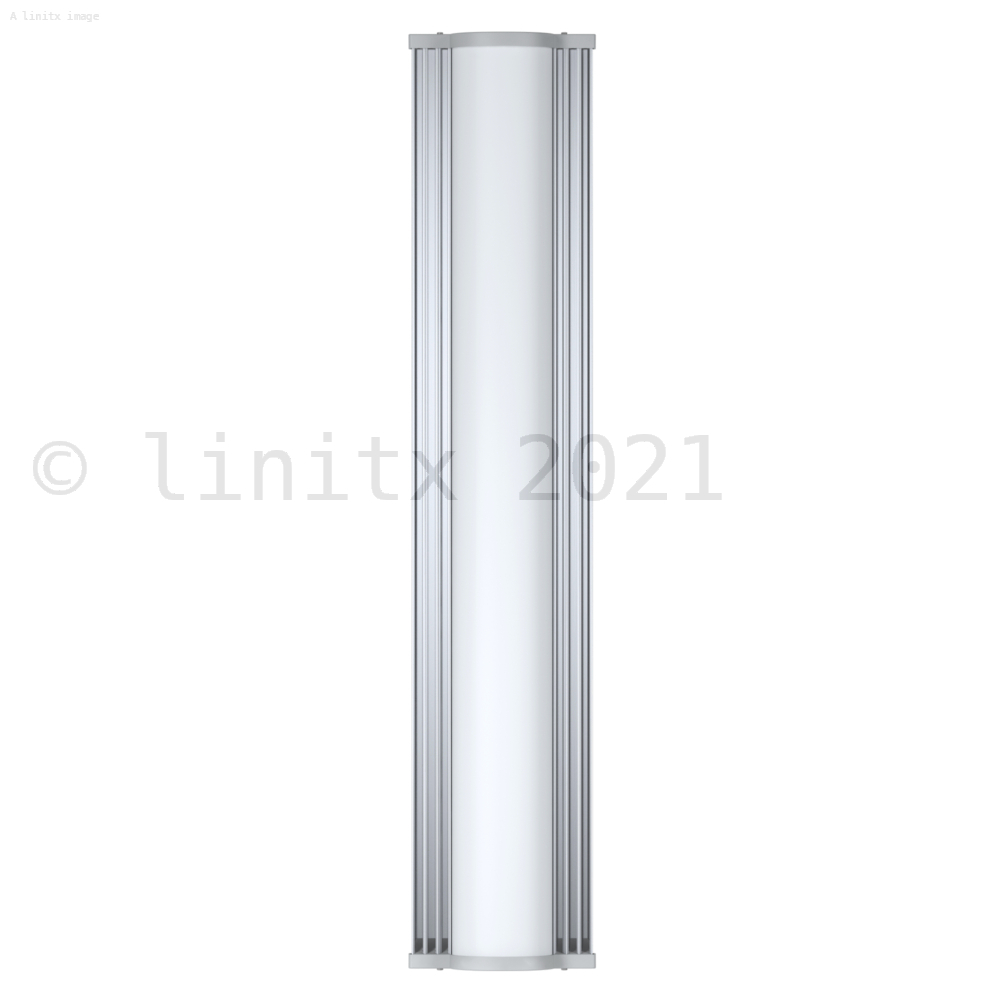sa: (350, 21, 677, 955)
